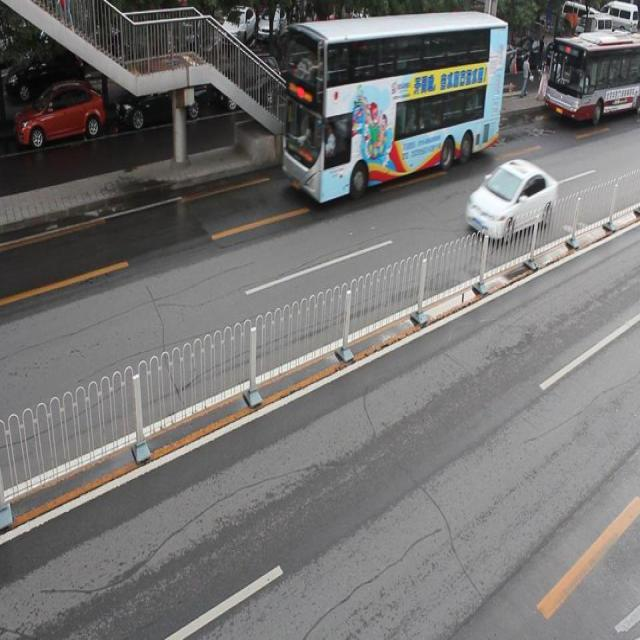car: (467, 159, 557, 238), (16, 76, 107, 144), (118, 63, 208, 122), (289, 39, 360, 93), (220, 46, 280, 104)
van: (282, 13, 506, 204), (543, 31, 640, 125)
